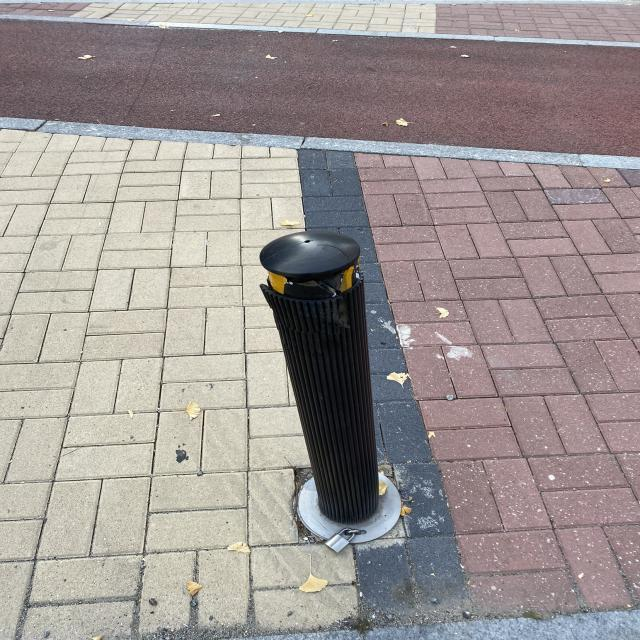pole: (259, 222, 396, 526)
